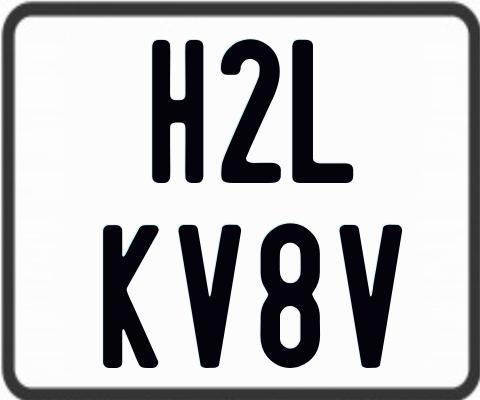2: (219, 38, 282, 187)
8: (258, 223, 320, 372)
H: (151, 37, 206, 184)
K: (103, 225, 160, 368)
L: (290, 40, 354, 183)
V: (176, 223, 243, 366), (337, 222, 400, 369)
